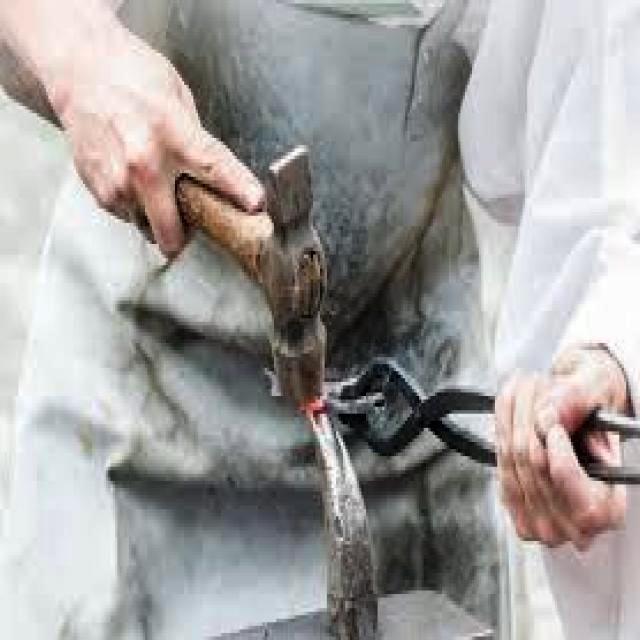hammer: (117, 124, 360, 428)
